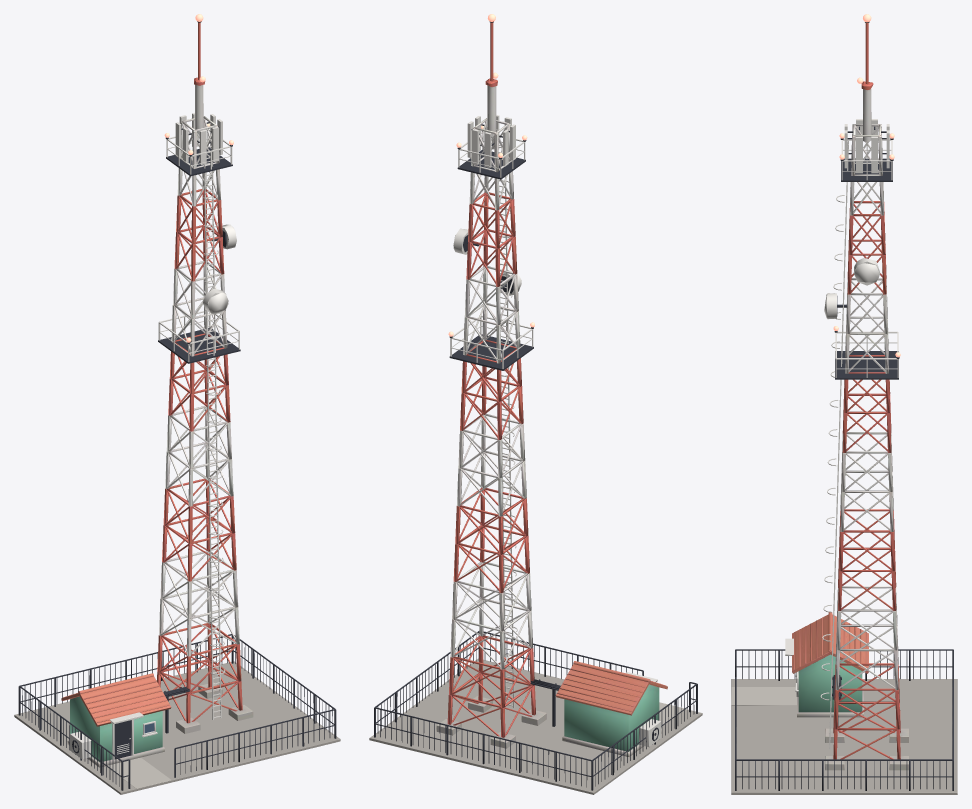
Rendered from arch_radio_tower.glb.
3 renders of one model, left to right at view 1: azimuth 30°, elevation 25°; view 2: azimuth 150°, elevation 25°; view 3: azimuth 270°, elevation 25°, orthographic. The views are drawn at different scales.
Visible parts, largest first — view 1: radio-tower_body, radio-tower_antennas, radio-tower_grounds; view 2: radio-tower_body, radio-tower_grounds, radio-tower_antennas; view 3: radio-tower_body, radio-tower_grounds, radio-tower_antennas.
Boxes of the visible parts, bbox=[...] form: radio-tower_body: bbox=[61, 22, 253, 767]; radio-tower_antennas: bbox=[18, 21, 336, 790]; radio-tower_grounds: bbox=[14, 661, 340, 794]; radio-tower_body: bbox=[436, 22, 667, 756]; radio-tower_grounds: bbox=[369, 658, 702, 794]; radio-tower_antennas: bbox=[374, 21, 697, 790]; radio-tower_body: bbox=[792, 23, 908, 770]; radio-tower_grounds: bbox=[731, 679, 957, 794]; radio-tower_antennas: bbox=[735, 22, 953, 790].
Bounding box in the file's own units: 12.5 × 37.95 × 10.5.
Materials: 7 (1 with a texture image).
